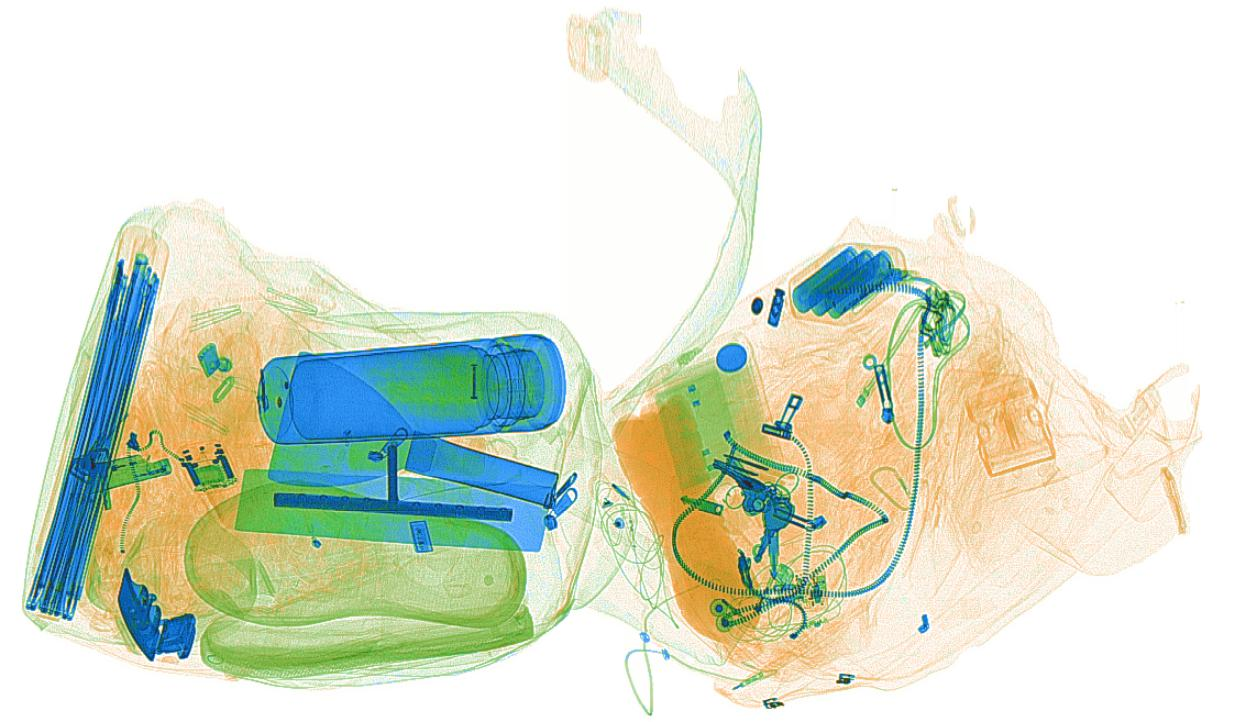battery: (787, 243, 897, 322)
lighter: (60, 449, 172, 499)
